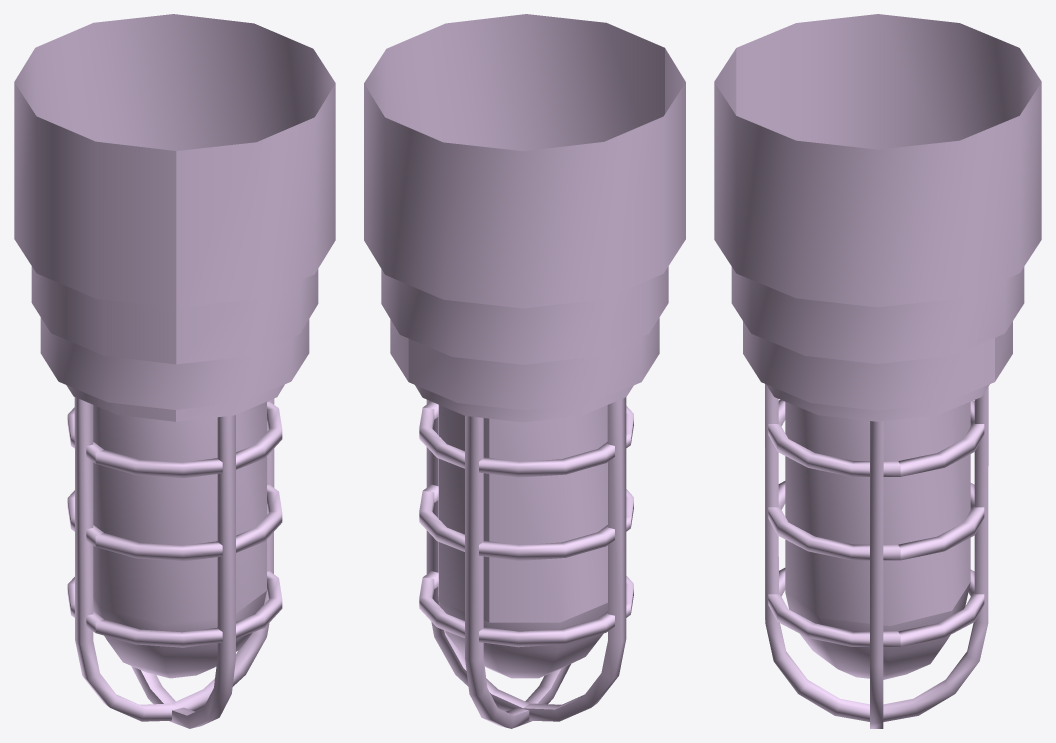
The model's file is lightbulb1.fbx.
3 views of the same model, side by side, from view 1: azimuth 30°, elevation 25°; view 2: azimuth 150°, elevation 25°; view 3: azimuth 270°, elevation 25° (orthographic).
Visible parts, largest first — view 1: AA_light_extA_Bulb_JAS_SMesh; view 2: AA_light_extA_Bulb_JAS_SMesh; view 3: AA_light_extA_Bulb_JAS_SMesh.
Part boxes in pixels (x1,y1,x2,y2): AA_light_extA_Bulb_JAS_SMesh: (14, 14, 335, 728); AA_light_extA_Bulb_JAS_SMesh: (364, 14, 685, 728); AA_light_extA_Bulb_JAS_SMesh: (714, 14, 1041, 728).
Size of the model in its own units: 18.23 by 40.05 by 18.61.
